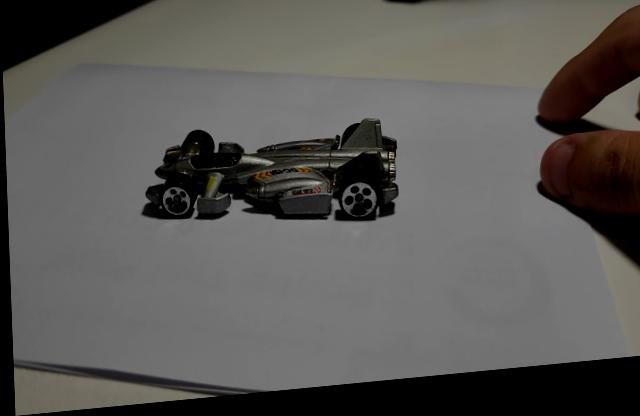05_DC121: (138, 127, 397, 230)
